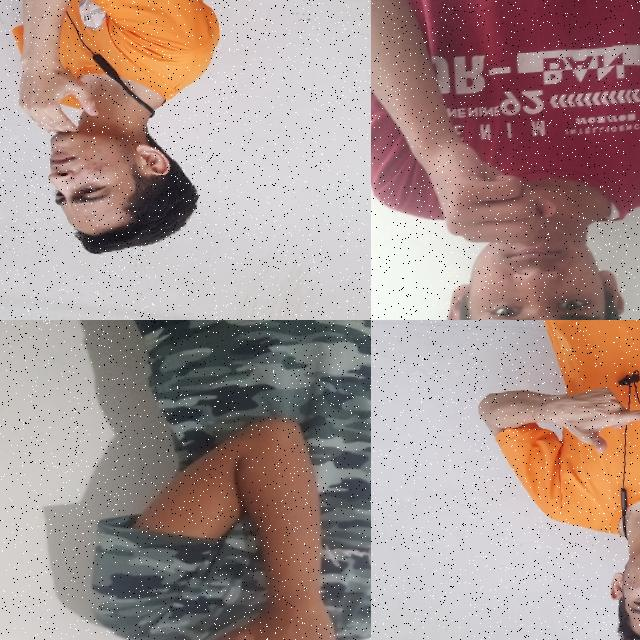Chin Flick: (0, 48, 192, 271), (165, 526, 371, 640)
Fist Mouth: (407, 121, 640, 320)
Five Fathers: (548, 368, 640, 463)
